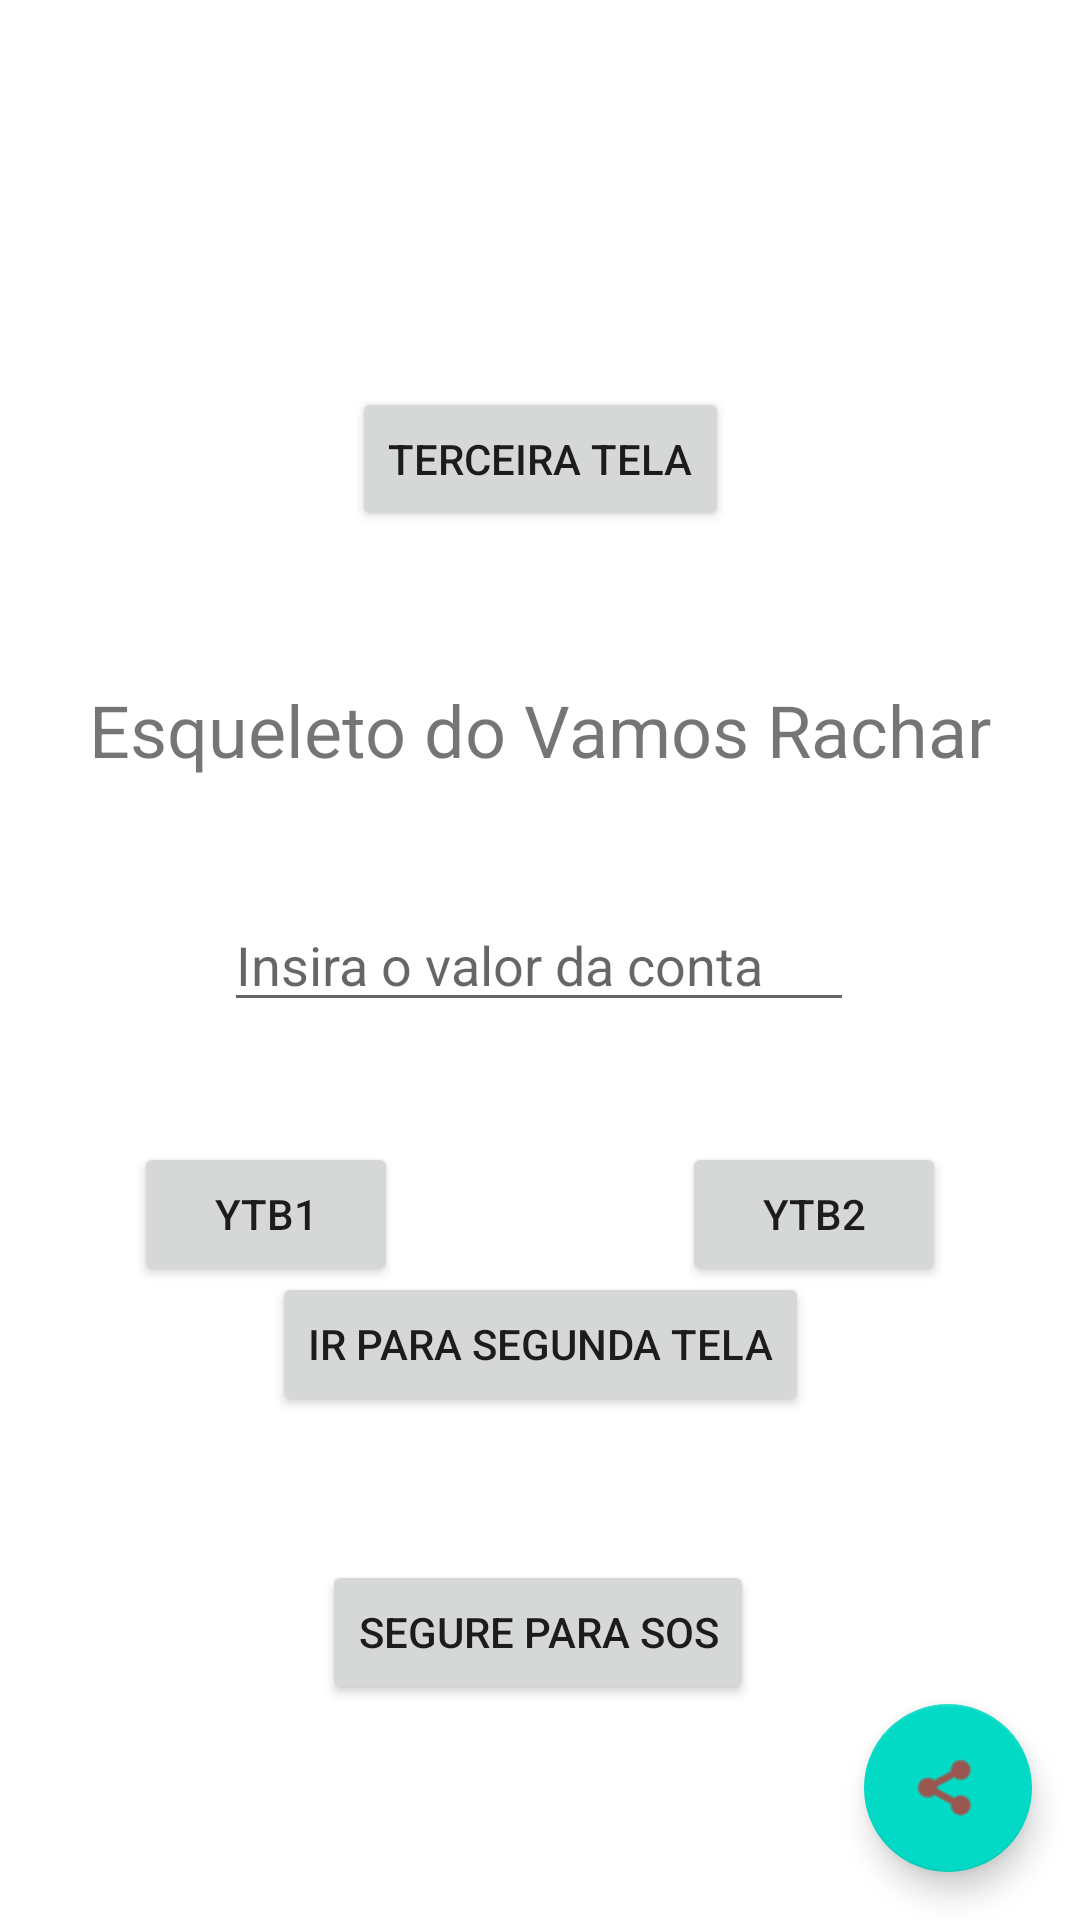

Icons on this 1080*1920 Android screen, each with the point to tap as [x,y]:
share: [948,1788]
